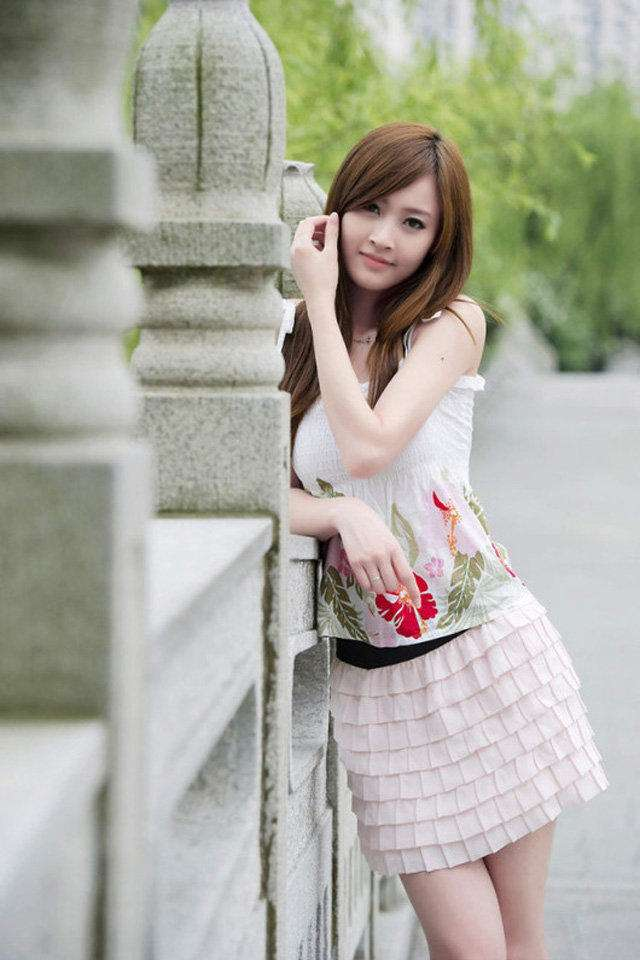person: (163, 86, 547, 800)
